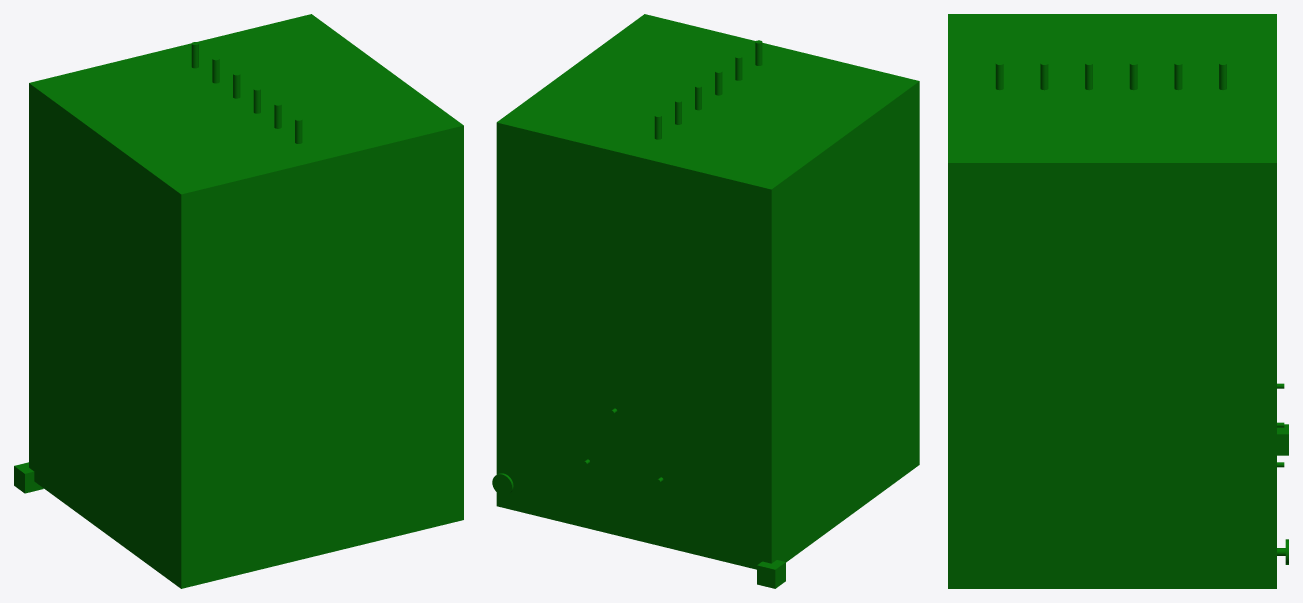
The model's file is Image-1711348081925-2279811799968_42-JB50.fbx.
The picture shows the model from 3 angles, left to right: view 1: azimuth 30°, elevation 25°; view 2: azimuth 150°, elevation 25°; view 3: azimuth 270°, elevation 25°; orthographic projection. The views are drawn at different scales.
Parts seen in each view (by area): view 1: BOX 1 of SUBEQUIPMENT /42-JB50/PRIM, BOX 1 of SUBEQUIPMENT /SI-2210; view 2: BOX 1 of SUBEQUIPMENT /42-JB50/PRIM, BOX 1 of SUBEQUIPMENT /SI-2210; view 3: BOX 1 of SUBEQUIPMENT /42-JB50/PRIM.
Boxes of the visible parts, x1,y1,x2,y2 form: BOX 1 of SUBEQUIPMENT /42-JB50/PRIM: [29, 14, 463, 588]; BOX 1 of SUBEQUIPMENT /SI-2210: [14, 462, 43, 493]; BOX 1 of SUBEQUIPMENT /42-JB50/PRIM: [496, 14, 919, 569]; BOX 1 of SUBEQUIPMENT /SI-2210: [757, 560, 785, 588]; BOX 1 of SUBEQUIPMENT /42-JB50/PRIM: [948, 14, 1276, 588].
Size of the model in its own units: 1.55 by 1.45 by 2.17.
